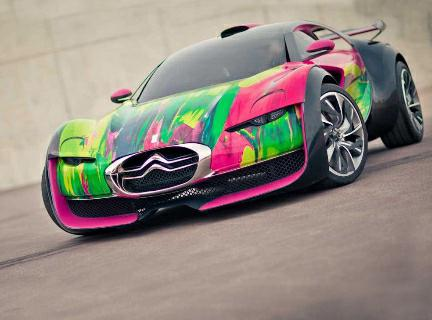雪铁龙-Survolt: (38, 19, 425, 241)
